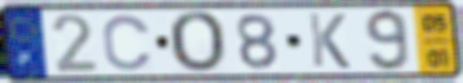2: (48, 12, 101, 75)
8: (234, 12, 281, 72)
9: (361, 7, 413, 74)
C: (100, 13, 155, 73)
K: (305, 11, 353, 71)
O: (165, 9, 227, 75)
